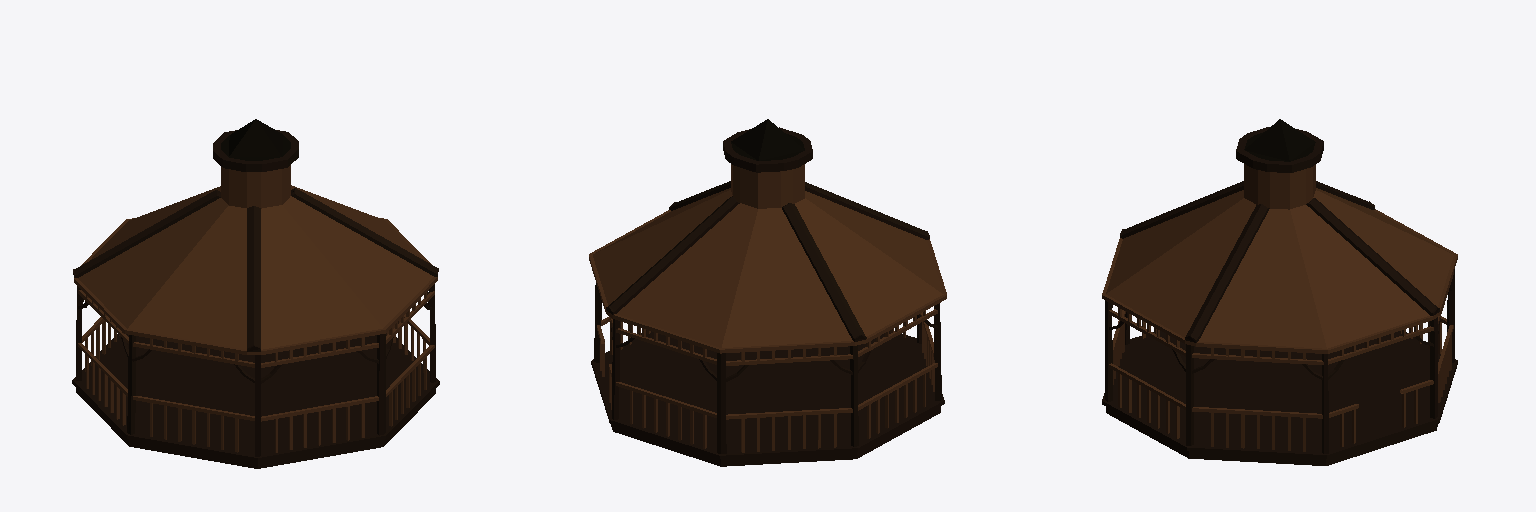
Rendered from SM_Gazebo_02.obj.
The picture shows the model from 3 angles: view 1: azimuth 30°, elevation 25°; view 2: azimuth 150°, elevation 25°; view 3: azimuth 270°, elevation 25°; orthographic projection.
Parts seen in each view (by area): view 1: SM_Gazebo:SM_Gazebo1; view 2: SM_Gazebo:SM_Gazebo1; view 3: SM_Gazebo:SM_Gazebo1.
Boxes of the visible parts, x1,y1,x2,y2 form: SM_Gazebo:SM_Gazebo1: [72, 119, 439, 468]; SM_Gazebo:SM_Gazebo1: [589, 119, 946, 466]; SM_Gazebo:SM_Gazebo1: [1102, 119, 1457, 465].
Size of the model in its own units: 10.4 by 8.77 by 10.31.